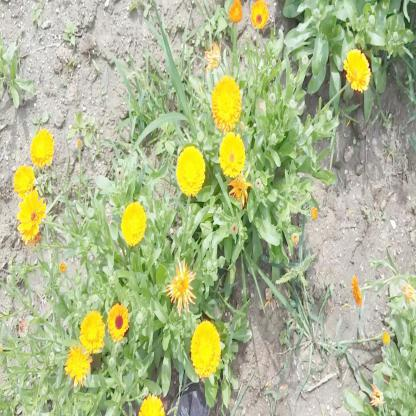marigold: (211, 76, 242, 129), (190, 321, 220, 375), (16, 190, 46, 242), (176, 146, 205, 195), (167, 264, 194, 310), (219, 131, 246, 175), (121, 201, 146, 247), (344, 49, 370, 92), (107, 302, 130, 341), (29, 126, 53, 162), (65, 344, 87, 380), (82, 312, 102, 349), (13, 163, 33, 195)
